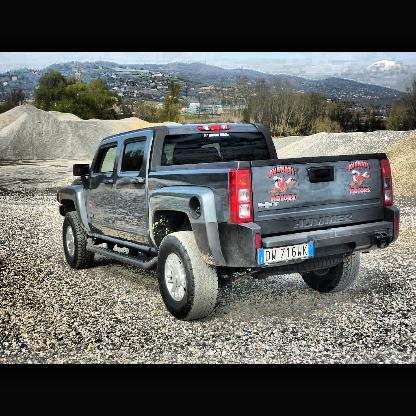HUMMER H3T Crew Cab 2010: (59, 127, 400, 322)
